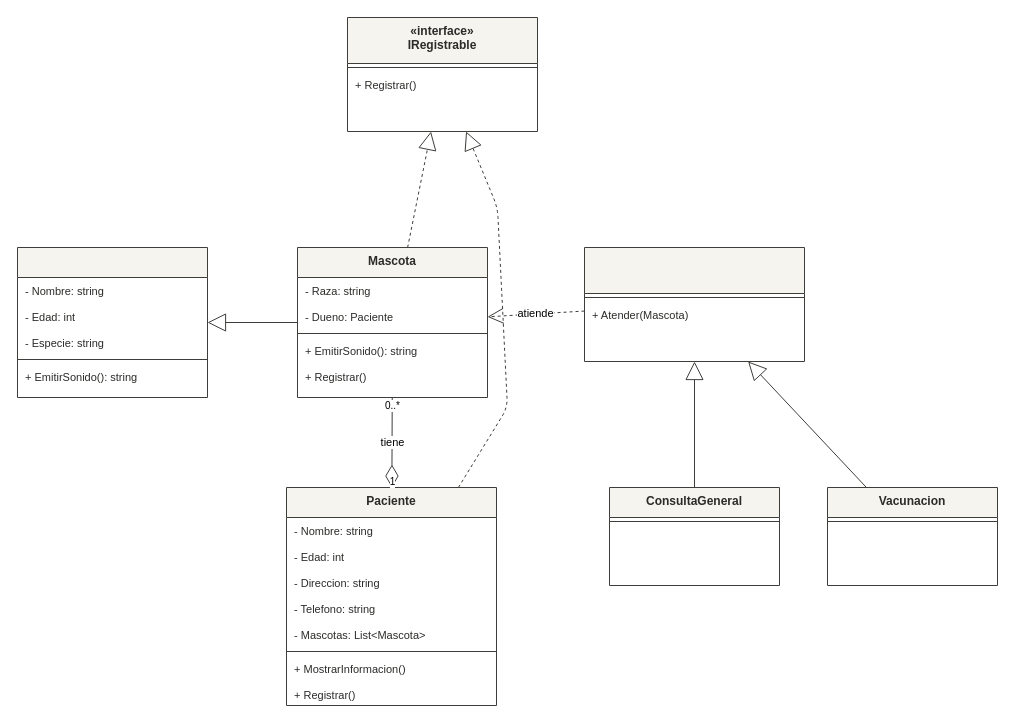
Some shapes in this 1015 by 725 pixel diagram are drawn without their labels. The box of each missing label's shape, as (x1, y1, x2, y2) in pixels:
Animal: (16, 246, 208, 398)
«abstract» ServicioVeterinario: (584, 246, 804, 362)
